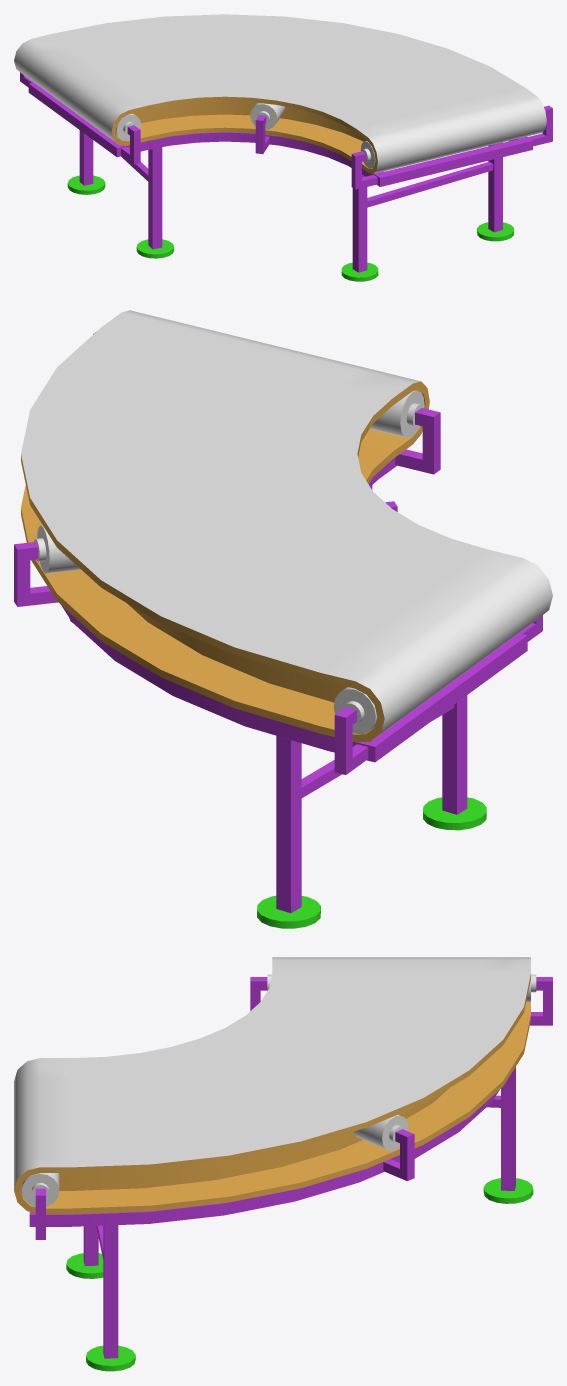
Rendered from mesh_conveyorBeltCurve.fbx.
The picture shows the model from 3 angles, top to bottom: view 1: azimuth 30°, elevation 25°; view 2: azimuth 150°, elevation 25°; view 3: azimuth 270°, elevation 25°; orthographic projection. The views are drawn at different scales.
Visible parts, largest first — view 1: mesh_conveyorBelt03; view 2: mesh_conveyorBelt03; view 3: mesh_conveyorBelt03.
Boxes of the visible parts, x1,y1,x2,y2 form: mesh_conveyorBelt03: (14, 14, 552, 281); mesh_conveyorBelt03: (14, 310, 552, 928); mesh_conveyorBelt03: (14, 957, 552, 1371).
Bounding box in the file's own units: 209 × 86.71 × 209.
